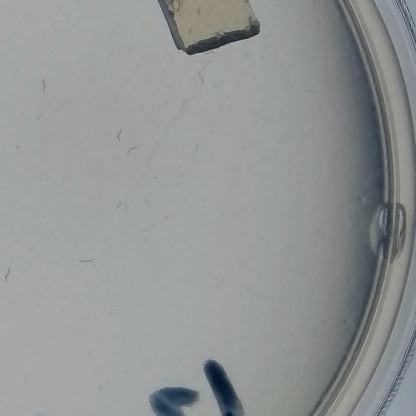worm: (107, 194, 130, 226), (66, 251, 96, 275), (112, 123, 128, 148), (192, 69, 210, 89), (25, 112, 42, 133), (124, 141, 139, 164), (184, 143, 202, 162), (37, 71, 51, 94), (0, 262, 12, 287), (303, 81, 316, 101)
